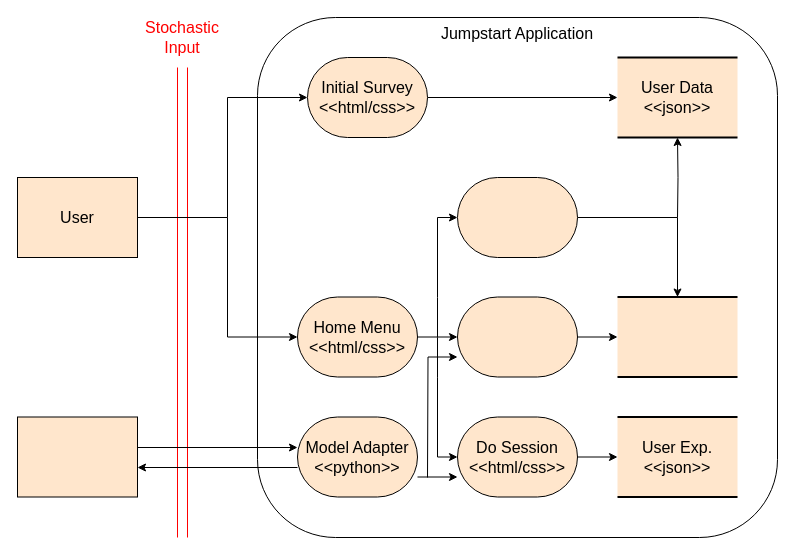
Some shapes in this 795 by 556 pixel diagram are drawn without their labels. The centre of each missing label's shape, as x and y in pixels:
Large Language Model (LLM): the point at 77,456
Plan Session <<html/css>>: the point at 517,336
Settings Menu <<html/css>>: the point at 517,217
User Plans <<json>>: the point at 677,336
